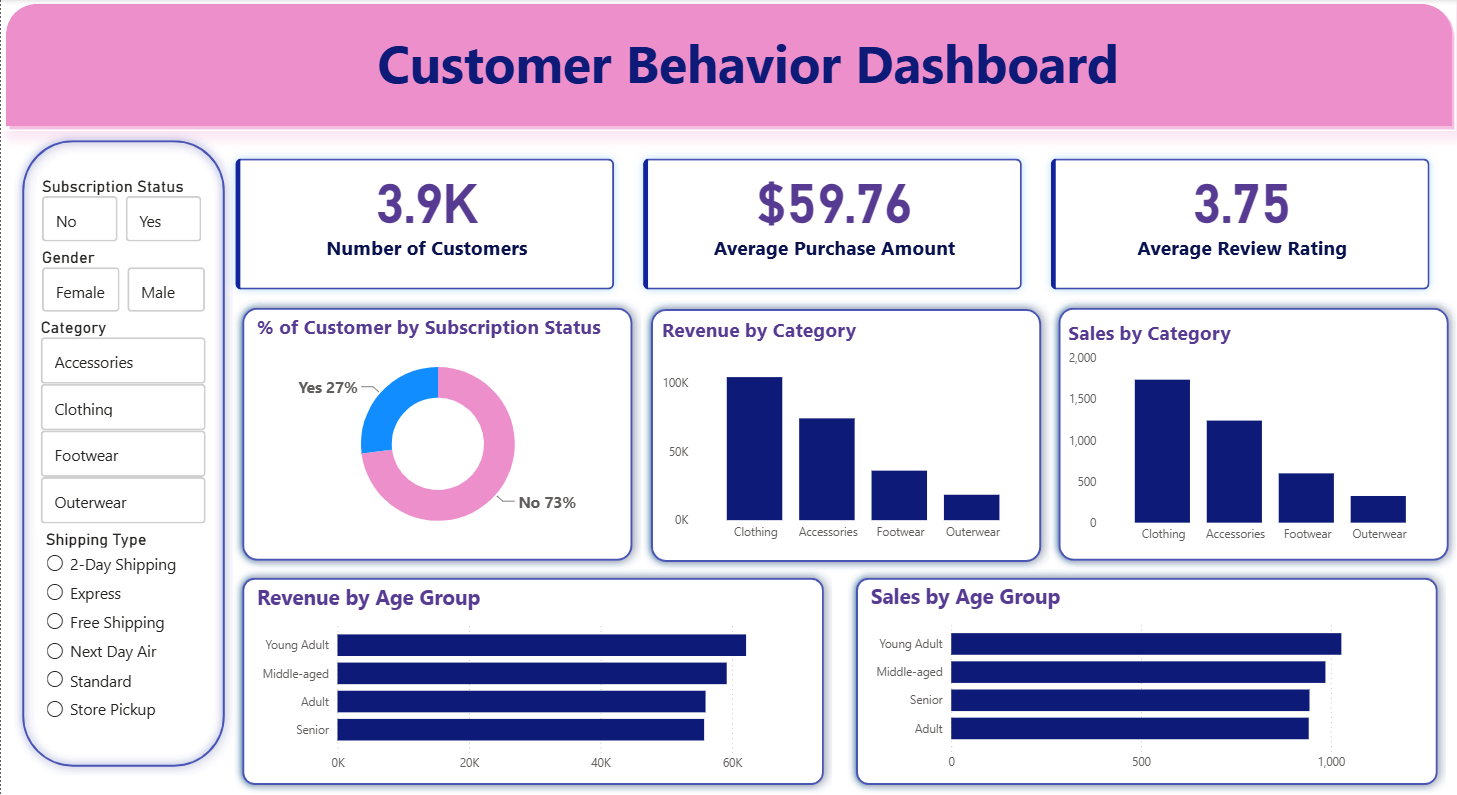

What the dashboard file says about the page in this screenshot:
{"tool":"powerbi","page":{"name":"Page 1","canvas":[1500,820],"ordinal":0},"visuals":[{"type":"cardVisual","fields":{"Data":["customer_behavior customer.Number of Customers","customer_behavior customer.Average Purchase Amount","customer_behavior customer.Average Review Rating"]},"box":[213.3,136.7,1286.7,191.7],"z":0},{"type":"shape","box":[240,587.1,617.1,231.4],"z":1000},{"type":"shape","box":[0,0,1500,136],"z":2000},{"type":"clusteredBarChart","title":"Revenue by Age Group","fields":{"Y":["Sum(customer_behavior customer.purchase_amount)"],"Category":["customer_behavior customer.age_group"]},"box":[258.6,601.4,577.1,204.3],"z":3000},{"type":"textbox","box":[38,24,1462,100],"z":4000},{"type":"shape","box":[1080,308.6,420,278.6],"z":5000},{"type":"shape","box":[660,310,420,278.6],"z":6000},{"type":"clusteredColumnChart","title":"Revenue by Category","fields":{"Category":["customer_behavior customer.category"],"Y":["Sum(customer_behavior customer.purchase_amount)"]},"box":[675.7,327.1,390,240],"z":7000},{"type":"shape","box":[240,308.6,420,278.6],"z":8000},{"type":"clusteredColumnChart","title":"Sales by Category","fields":{"Category":["customer_behavior customer.category"],"Y":["CountNonNull(customer_behavior customer.customer_id)"]},"box":[1094.3,330,390,240],"z":9000},{"type":"shape","box":[13.3,136.7,226.7,663.3],"z":10000},{"type":"advancedSlicerVisual","title":"Gender","fields":{"Values":["customer_behavior customer.gender"]},"box":[37.9,255.6,179.8,71.6],"z":11000},{"type":"advancedSlicerVisual","title":"Subscription Status","fields":{"Values":["customer_behavior customer.subscription_status"]},"box":[37.9,182.6,175.6,73],"z":12000},{"type":"advancedSlicerVisual","title":"Category","fields":{"Values":["customer_behavior customer.category"]},"box":[36.1,328.4,180.3,218.9],"z":13000},{"type":"listSlicer","title":"Shipping Type","fields":{"Values":["customer_behavior customer.shipping_type"]},"box":[41.2,546,172.6,213.8],"z":14000},{"type":"donutChart","title":"% of Customer by Subscription Status","fields":{"Category":["customer_behavior customer.subscription_status"],"Y":["CountNonNull(customer_behavior customer.customer_id)"]},"box":[258.6,322.9,382.9,244.3],"z":15000},{"type":"shape","box":[871.4,587.1,617.1,231.4],"z":16000},{"type":"clusteredBarChart","title":"Sales by Age Group","fields":{"Y":["CountNonNull(customer_behavior customer.customer_id)"],"Category":["customer_behavior customer.age_group"]},"box":[891.4,600,577.1,204.3],"z":17000}]}

Visuals, with their boxes in screenshot pixels (x1, y1, x2, y2), scaled from the page's 1500x820 canvas onto the 1457x795 screenshot:
cardVisual - customer_behavior customer.Number of Customers x customer_behavior customer.Average Purchase Amount: 207 133 1456 318
shape: 233 569 833 794
shape: 0 0 1456 132
"Revenue by Age Group" clusteredBarChart: 251 583 812 781
textbox: 37 23 1456 120
shape: 1049 299 1456 569
shape: 641 301 1049 571
"Revenue by Category" clusteredColumnChart: 656 317 1035 550
shape: 233 299 641 569
"Sales by Category" clusteredColumnChart: 1063 320 1442 553
shape: 13 133 233 776
"Gender" advancedSlicerVisual: 37 248 211 317
"Subscription Status" advancedSlicerVisual: 37 177 207 248
"Category" advancedSlicerVisual: 35 318 210 531
"Shipping Type" listSlicer: 40 529 208 737
"% of Customer by Subscription Status" donutChart: 251 313 623 550
shape: 846 569 1446 794
"Sales by Age Group" clusteredBarChart: 866 582 1426 780
